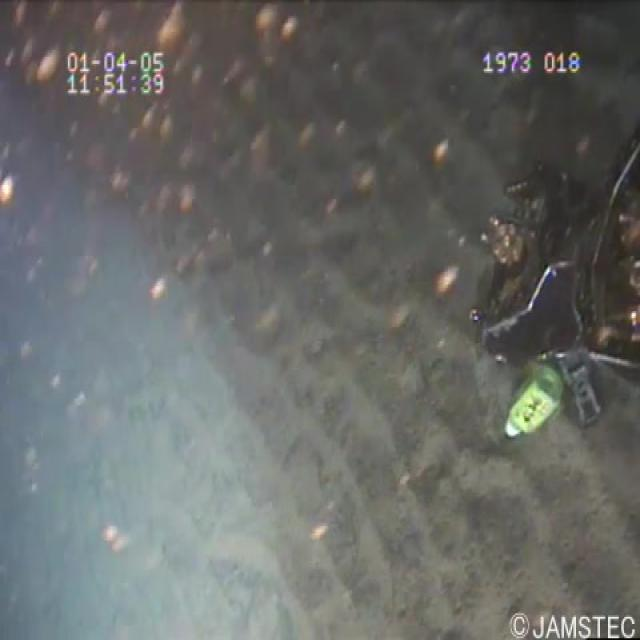plastic: (497, 358, 564, 447)
